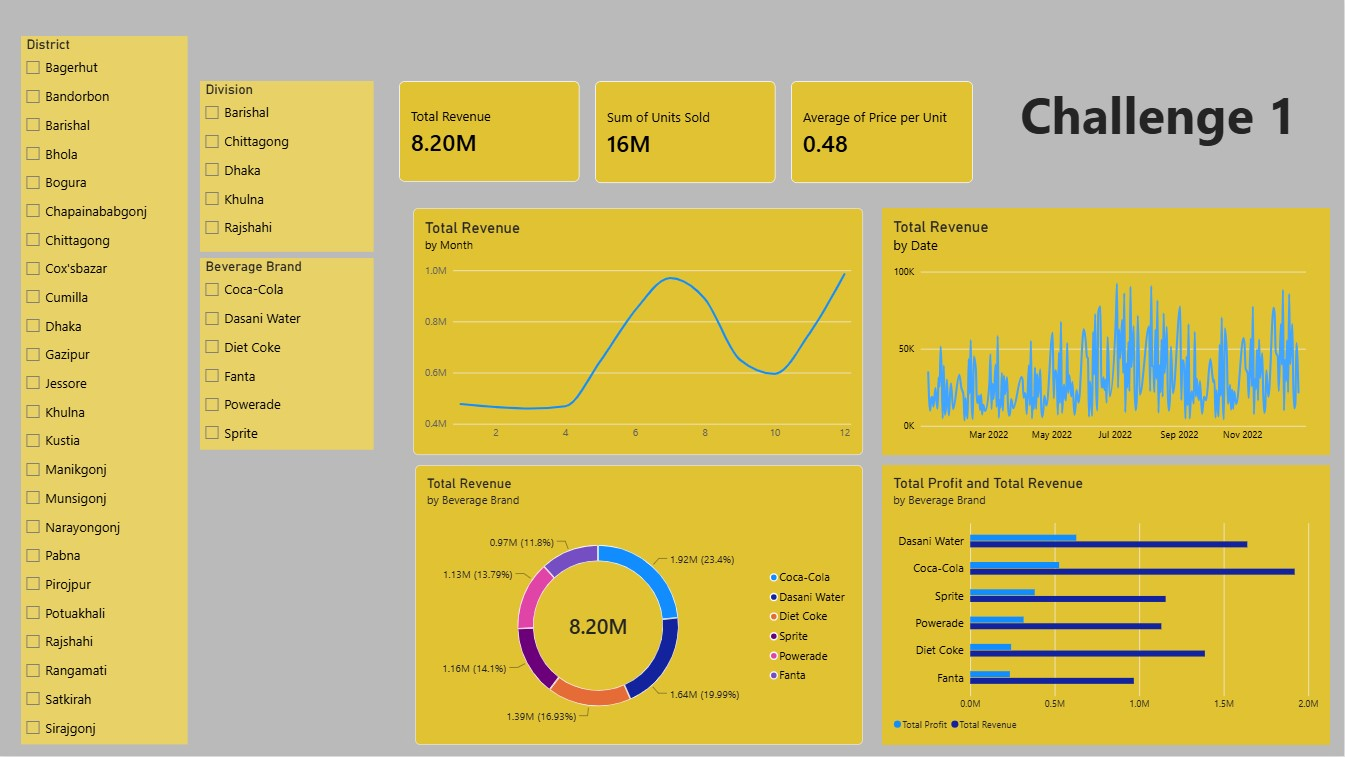

What the dashboard file says about the page in this screenshot:
{"tool":"powerbi","page":{"name":"Challenge 1","canvas":[1920,1080],"ordinal":0},"visuals":[{"type":"slicer","fields":{"Values":["Data.Division"]},"box":[286,116,248,244],"z":0},{"type":"slicer","fields":{"Values":["Data.Beverage Brand"]},"box":[286,368,248,274],"z":1000},{"type":"slicer","fields":{"Values":["Data.District"]},"box":[30,52,238,1012],"z":2000},{"type":"cardVisual","fields":{"Data":["Data.Total Revenue"]},"box":[570,116,258,144],"z":3000},{"type":"cardVisual","fields":{"Data":["Sum(Data.Units Sold)"]},"box":[850,116,258,146],"z":4000},{"type":"cardVisual","fields":{"Data":["Avg(Data.Price per Unit)"]},"box":[1130,116,260,146],"z":5000},{"type":"lineChart","fields":{"Category":["Data.Month"],"Y":["Data.Total Revenue"]},"box":[590,296.7,643.3,353.3],"z":6000},{"type":"lineChart","fields":{"Category":["Data.Date"],"Y":["Data.Total Revenue"]},"box":[1260,297.5,640,353.3],"z":7000},{"type":"donutChart","fields":{"Category":["Data.Beverage Brand"],"Y":["Data.Total Revenue"]},"box":[592.5,665,640,400],"z":8000},{"type":"clusteredBarChart","fields":{"Category":["Data.Beverage Brand"],"Y":["Data.Total Profit","Data.Total Revenue"]},"box":[1260,665,640,400],"z":9000},{"type":"textbox","box":[1410,113.3,490,100],"z":10000}]}

Visuals, with their boxes in screenshot pixels (x1, y1, x2, y2), scaled from the page's 1920x1080 canvas onto the 1345x757 screenshot:
slicer - Data.Division: region(200, 81, 374, 252)
slicer - Data.Beverage Brand: region(200, 258, 374, 450)
slicer - Data.District: region(21, 36, 188, 746)
cardVisual - Data.Total Revenue: region(399, 81, 580, 182)
cardVisual - Sum(Data.Units Sold): region(595, 81, 776, 184)
cardVisual - Avg(Data.Price per Unit): region(792, 81, 974, 184)
lineChart - Data.Month x Data.Total Revenue: region(413, 208, 864, 456)
lineChart - Data.Date x Data.Total Revenue: region(883, 209, 1331, 456)
donutChart - Data.Beverage Brand x Data.Total Revenue: region(415, 466, 863, 746)
clusteredBarChart - Data.Beverage Brand x Data.Total Profit: region(883, 466, 1331, 746)
textbox: region(988, 79, 1331, 150)
